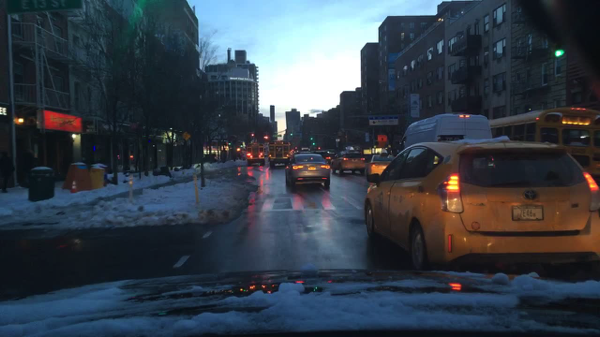bus: (488, 107, 598, 181), (269, 141, 291, 169), (246, 144, 265, 167)
car: (365, 140, 599, 281), (285, 154, 330, 189), (331, 146, 367, 175), (366, 148, 396, 176), (310, 150, 331, 167)
person: (21, 149, 37, 185), (1, 152, 15, 190), (238, 152, 242, 161), (233, 155, 237, 162)
traffic light: (553, 39, 565, 59), (289, 132, 294, 137), (310, 134, 313, 140), (313, 141, 316, 146), (228, 140, 230, 146)
traffic sign: (369, 116, 400, 125), (378, 136, 388, 143), (183, 132, 190, 140), (272, 134, 282, 138)
truck: (397, 114, 490, 153)
